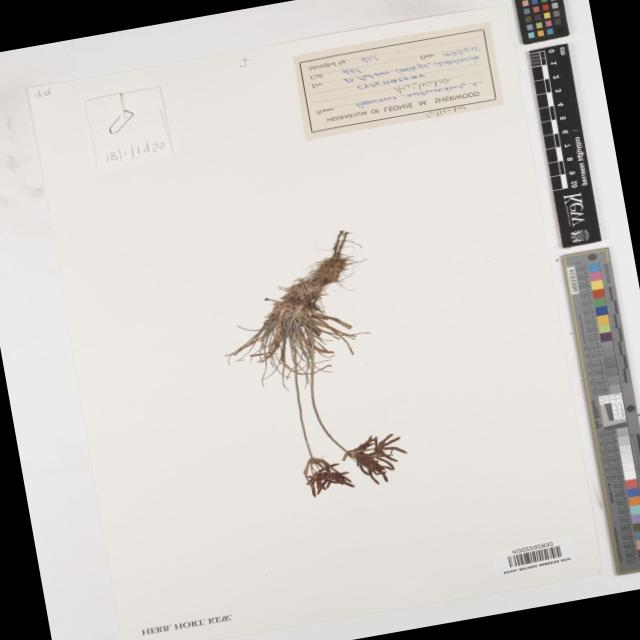cyperus: (291, 423, 418, 506)
